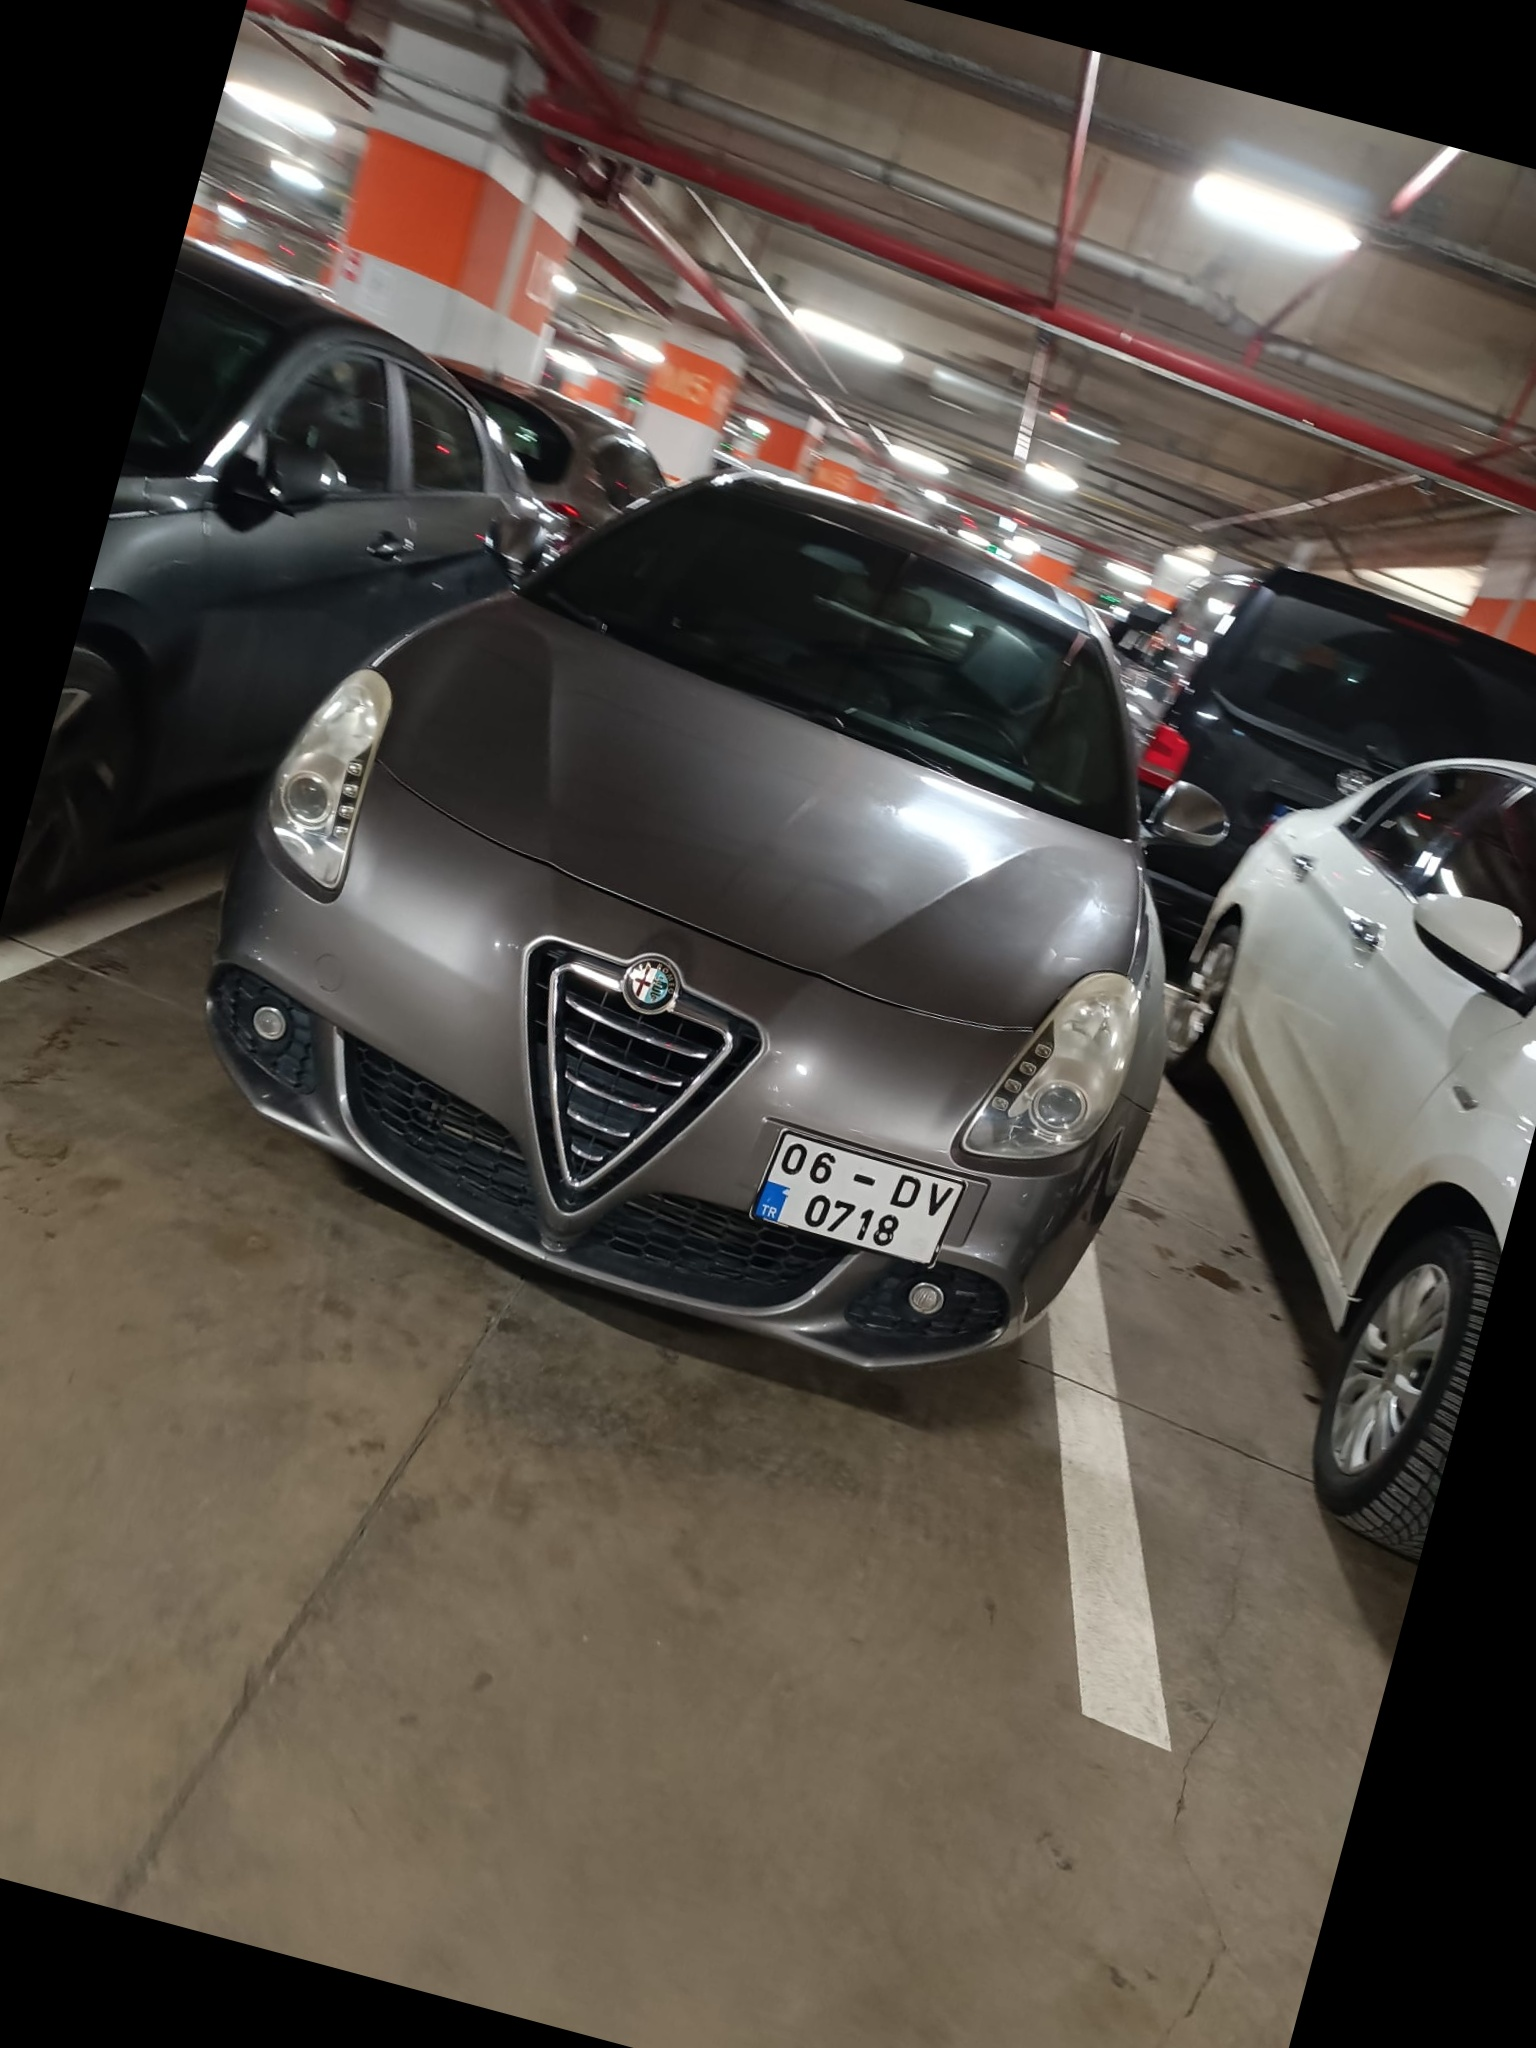plaka: (757, 1120, 960, 1266)
